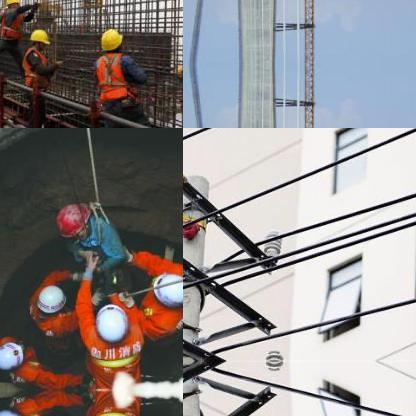Helmet: (92, 300, 130, 342), (53, 201, 92, 239), (150, 269, 182, 303), (32, 282, 66, 312), (0, 340, 28, 370), (97, 25, 123, 55), (28, 25, 48, 50), (0, 406, 28, 415), (2, 0, 22, 11)
